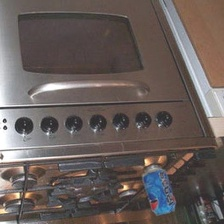can: (139, 159, 179, 219)
